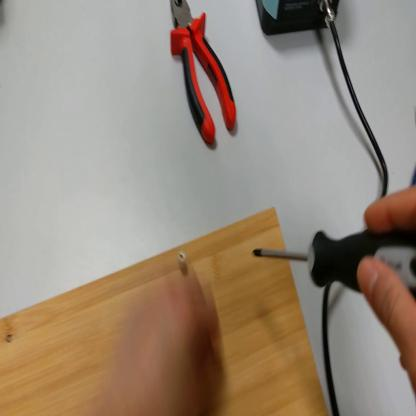hand: (108, 268, 224, 411), (355, 184, 416, 398)
pliers: (167, 2, 240, 149)
screwdriver-: (251, 224, 416, 298)
welder station: (256, 2, 341, 38)
working area: (2, 205, 326, 416)
